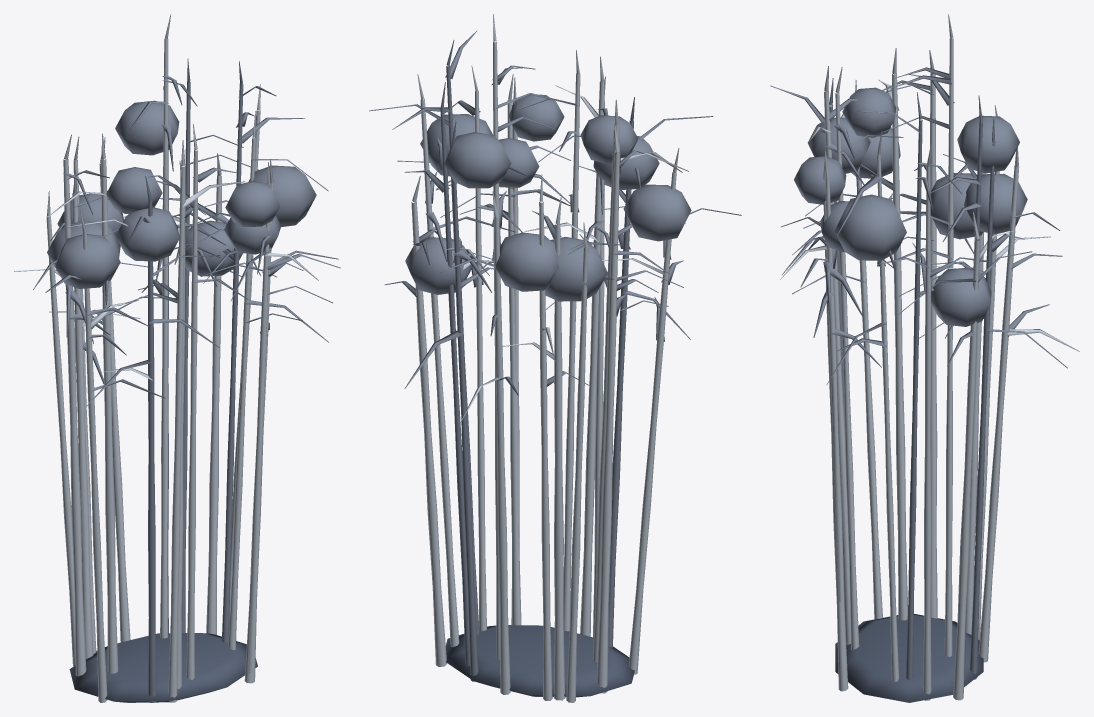
File: 浓密竹丛.glb
3 views of the same model, side by side, from view 1: azimuth 30°, elevation 25°; view 2: azimuth 150°, elevation 25°; view 3: azimuth 270°, elevation 25° (orthographic). The views are drawn at different scales.
Parts seen in each view (by area): view 1: garden-bamboo-dense-light, garden-bamboo-dense-leaf, garden-bamboo-dense-old, garden-bamboo-dense-soil; view 2: garden-bamboo-dense-light, garden-bamboo-dense-leaf, garden-bamboo-dense-old, garden-bamboo-dense-soil; view 3: garden-bamboo-dense-light, garden-bamboo-dense-leaf, garden-bamboo-dense-old, garden-bamboo-dense-soil.
Boxes of the visible parts, x1,y1,x2,y2 form: garden-bamboo-dense-light: [14, 14, 318, 702]; garden-bamboo-dense-leaf: [33, 76, 340, 406]; garden-bamboo-dense-old: [145, 58, 243, 702]; garden-bamboo-dense-soil: [69, 633, 257, 702]; garden-bamboo-dense-light: [411, 14, 688, 702]; garden-bamboo-dense-leaf: [369, 31, 741, 395]; garden-bamboo-dense-old: [440, 40, 634, 681]; garden-bamboo-dense-soil: [445, 625, 634, 697]; garden-bamboo-dense-light: [780, 14, 1079, 700]; garden-bamboo-dense-leaf: [770, 67, 1067, 385]; garden-bamboo-dense-old: [829, 78, 995, 679]; garden-bamboo-dense-soil: [835, 614, 983, 702].
Size of the model in its own units: 1.2 by 2.4 by 1.
